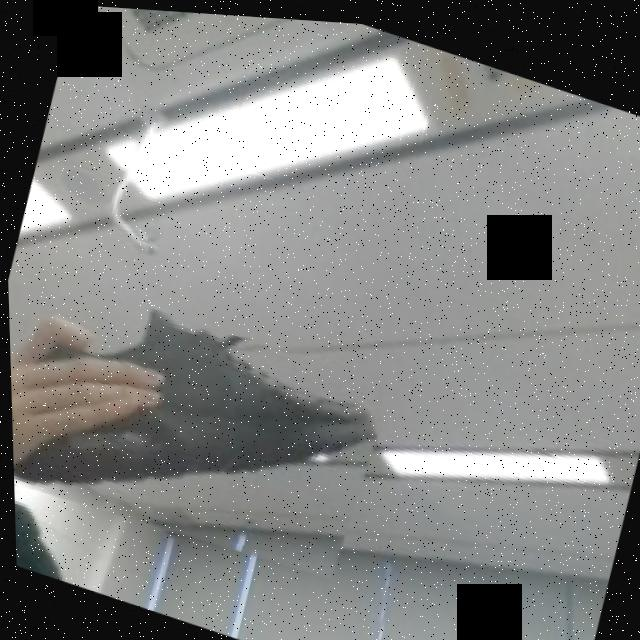shoe: (6, 271, 396, 592)
